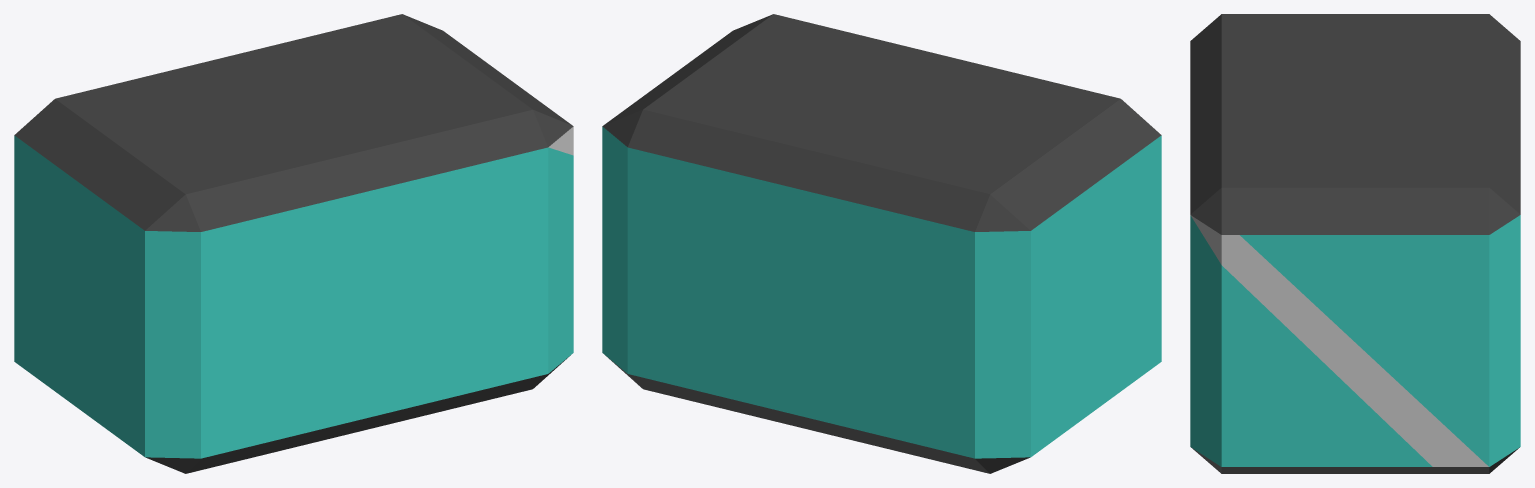
The model's file is SmallCase3.fbx.
The picture shows the model from 3 angles, left to right: view 1: azimuth 30°, elevation 25°; view 2: azimuth 150°, elevation 25°; view 3: azimuth 270°, elevation 25°; orthographic projection. The views are drawn at different scales.
Parts seen in each view (by area): view 1: Cube.041; view 2: Cube.041; view 3: Cube.041.
Part boxes in pixels (x1=…): Cube.041: x1=14, y1=14, x2=573, y2=473; Cube.041: x1=602, y1=14, x2=1161, y2=473; Cube.041: x1=1190, y1=14, x2=1520, y2=473.
Size of the model in its own units: 72.28 by 45.05 by 47.11.
